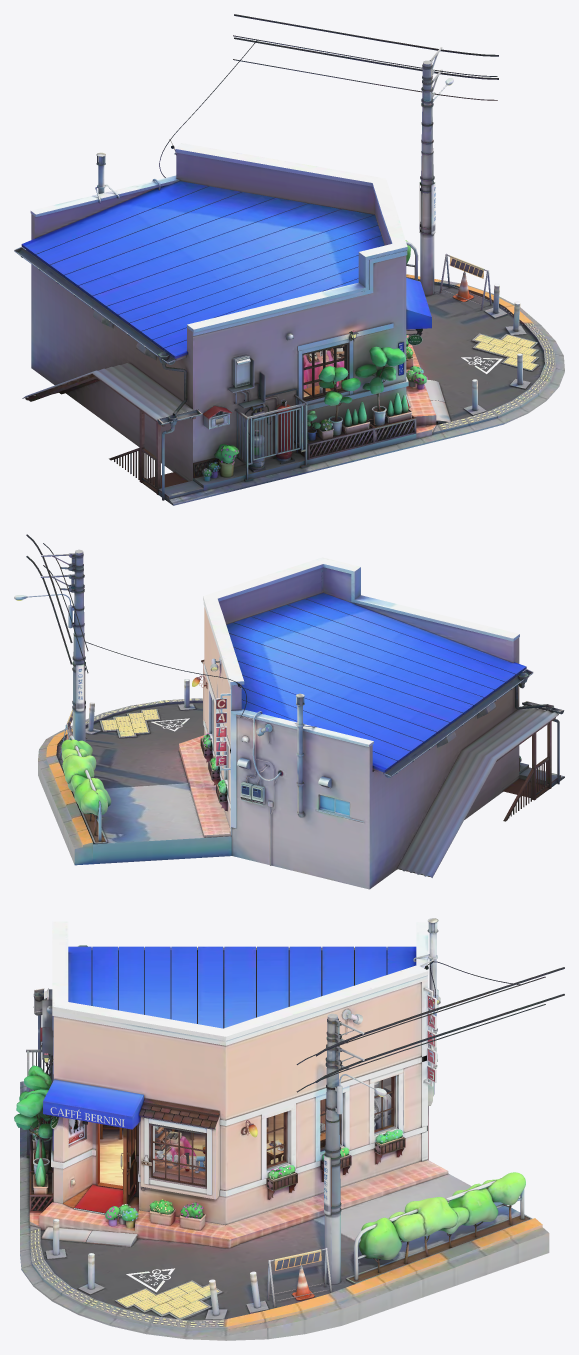
File: optimized_caffe.glb
3 renders of one model, top to bottom at view 1: azimuth 30°, elevation 25°; view 2: azimuth 150°, elevation 25°; view 3: azimuth 270°, elevation 25°, orthographic. The views are drawn at different scales.
Visible parts, largest first — view 1: Outside_Outside_0, Inside_Inside_0, Outside_Glass_0; view 2: Outside_Outside_0; view 3: Outside_Outside_0, Inside_Inside_0, Outside_Glass_0, Stuff_Stuff_0.
Part boxes in pixels (bbox=[...]): Outside_Outside_0: bbox=[14, 14, 564, 505]; Inside_Inside_0: bbox=[303, 345, 344, 397]; Outside_Glass_0: bbox=[304, 346, 344, 397]; Outside_Outside_0: bbox=[14, 534, 564, 889]; Outside_Outside_0: bbox=[14, 918, 564, 1340]; Inside_Inside_0: bbox=[100, 1068, 403, 1188]; Outside_Glass_0: bbox=[153, 1077, 392, 1184]; Stuff_Stuff_0: bbox=[100, 1124, 325, 1171].
Size of the model in its own units: 11698 by 6022 by 10469.
Materials: 7 (5 with a texture image).
